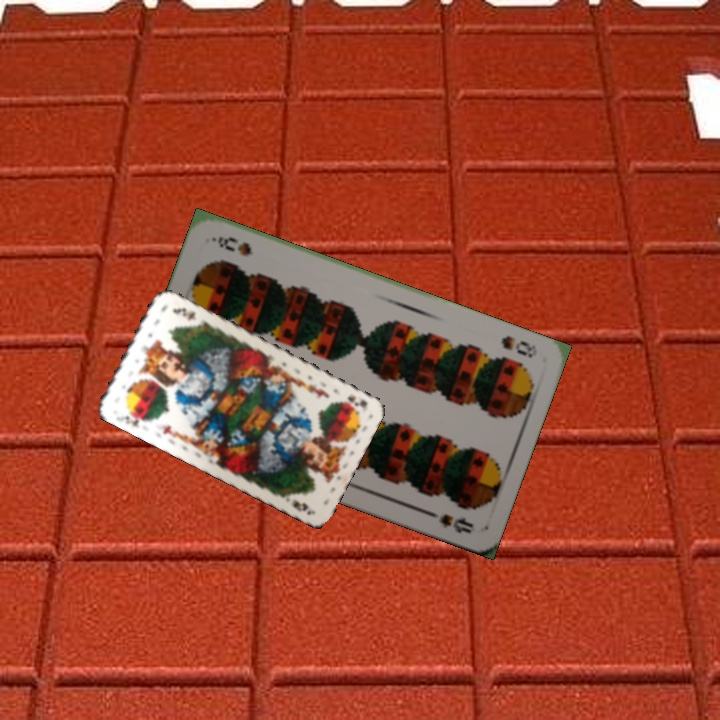S8: (497, 331, 540, 361)
SK: (115, 407, 151, 431), (343, 391, 370, 412)
